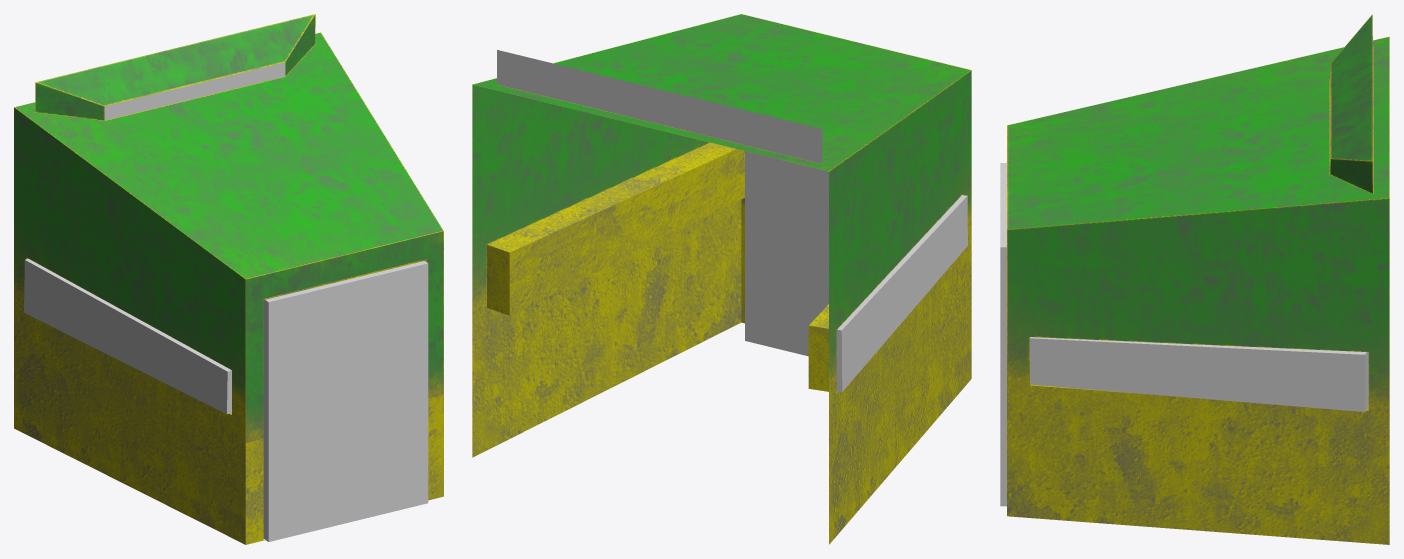
The model's file is CubeBaseFrontColumnTop.fbx.
The picture shows the model from 3 angles, left to right: view 1: azimuth 30°, elevation 25°; view 2: azimuth 150°, elevation 25°; view 3: azimuth 270°, elevation 25°; orthographic projection. The views are drawn at different scales.
Parts seen in each view (by area): view 1: pCube1, pCube4, pCube2; view 2: pCube1, pCube4, pCube2; view 3: pCube1, pCube3, pCube4.
Boxes of the visible parts, x1,y1,x2,y2 form: pCube1: [14, 14, 443, 544]; pCube4: [263, 261, 428, 541]; pCube2: [24, 258, 231, 414]; pCube1: [472, 14, 971, 544]; pCube4: [745, 151, 828, 356]; pCube2: [836, 195, 967, 391]; pCube1: [1007, 14, 1389, 544]; pCube3: [1029, 337, 1368, 411]; pCube4: [1000, 163, 1006, 506].
Bounding box in the file's own units: 1 × 1.09 × 1.02.
Materials: 2 (1 with a texture image).
